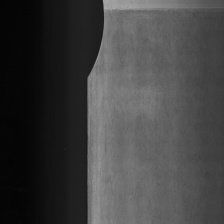crescent_gap: (82, 0, 107, 82), (101, 6, 224, 16)
